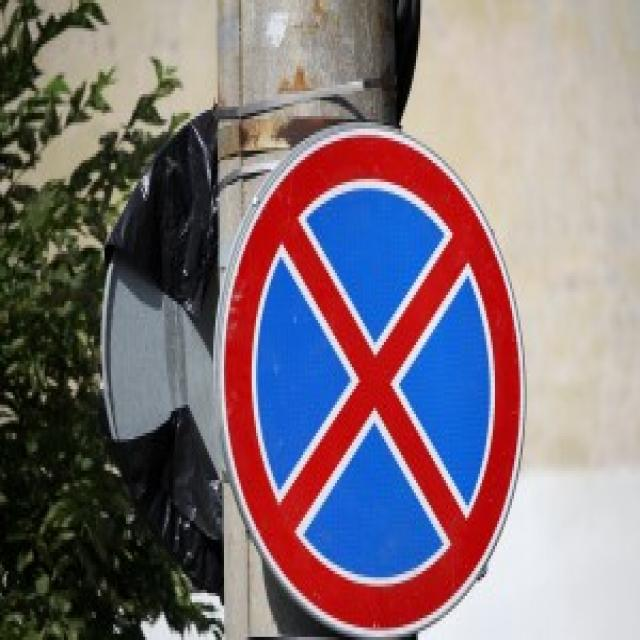no stopping: (217, 117, 533, 640)
